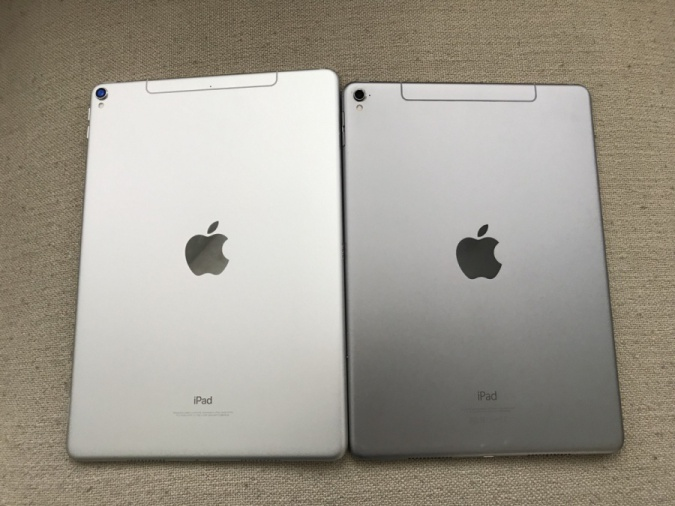apple: (169, 209, 273, 298), (449, 201, 517, 293)
